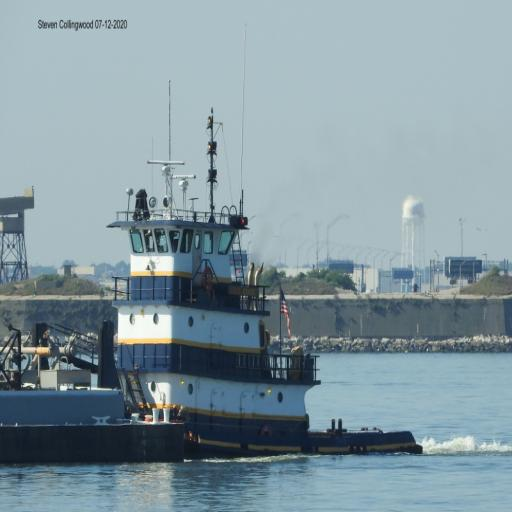tugboat: (30, 156, 427, 465)
